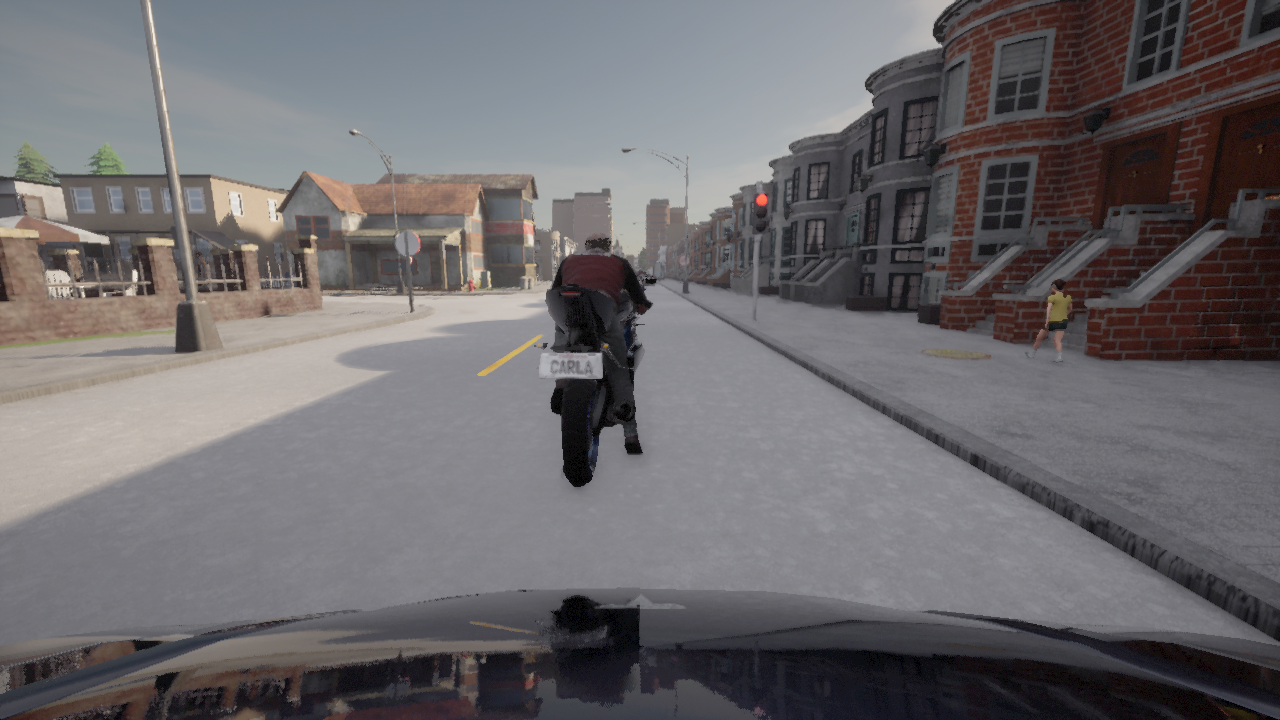cyclist: (0, 588, 1279, 719), (529, 275, 657, 486), (641, 286, 647, 292)
pedestrian: (1022, 279, 1072, 364), (194, 251, 212, 287)
